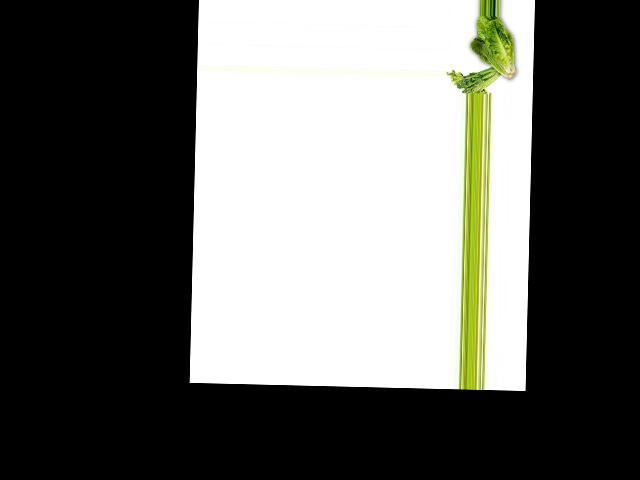lettuce: (464, 15, 515, 82)
